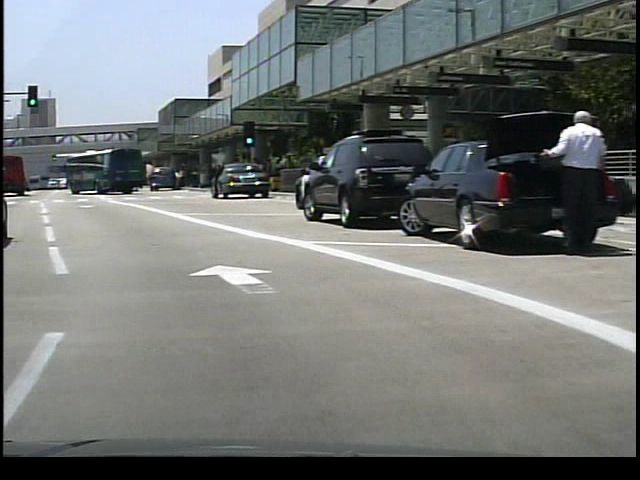person: (529, 96, 604, 261)
